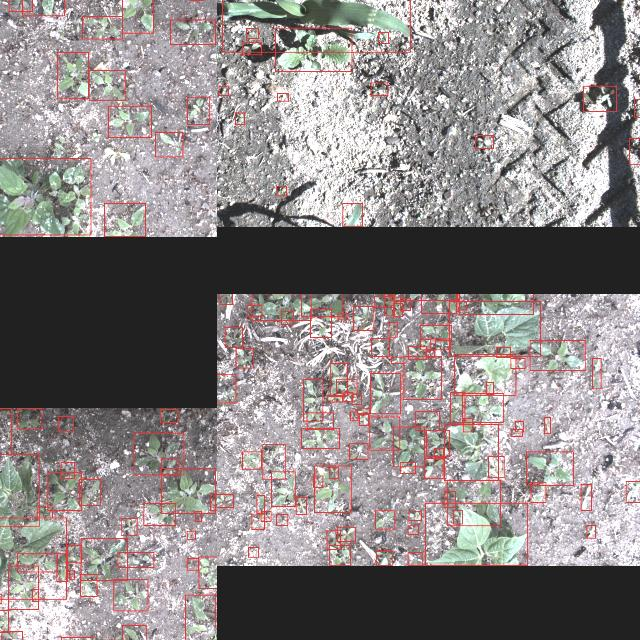crop: (221, 0, 409, 52), (425, 502, 527, 566), (0, 517, 66, 598), (448, 300, 540, 356), (444, 425, 498, 481), (0, 454, 38, 526), (453, 354, 515, 396), (459, 294, 533, 313), (342, 204, 362, 226)
weed: (0, 158, 90, 235), (274, 27, 352, 71), (446, 480, 499, 526), (161, 468, 215, 512), (133, 432, 183, 474), (80, 538, 128, 580), (314, 466, 351, 512), (403, 356, 441, 400), (530, 340, 584, 370), (526, 452, 572, 486), (251, 294, 310, 320), (184, 594, 217, 640), (56, 53, 88, 99), (108, 106, 150, 138), (47, 472, 81, 511), (8, 566, 38, 610), (104, 204, 144, 236), (392, 427, 423, 467), (370, 372, 400, 413), (462, 393, 502, 423), (88, 70, 124, 100), (170, 20, 214, 44), (113, 580, 147, 610), (121, 0, 152, 32), (369, 416, 399, 449), (300, 294, 342, 316), (582, 86, 616, 112), (82, 16, 122, 38), (302, 379, 322, 421), (270, 472, 294, 506), (262, 444, 284, 480), (143, 502, 175, 526), (300, 429, 338, 449), (16, 554, 56, 572), (156, 132, 182, 158), (420, 294, 455, 313), (22, 0, 64, 15), (187, 97, 209, 125), (310, 308, 330, 338), (198, 556, 217, 587), (117, 552, 153, 568), (329, 363, 347, 395), (78, 479, 100, 505), (426, 430, 448, 456), (352, 306, 373, 330), (217, 375, 235, 403), (17, 408, 41, 428), (306, 412, 332, 430), (415, 412, 439, 431), (420, 325, 450, 339), (450, 392, 464, 422), (329, 546, 349, 566), (423, 458, 442, 478), (121, 625, 145, 640), (374, 511, 394, 529), (224, 327, 242, 347), (80, 574, 96, 596), (488, 456, 504, 478), (235, 348, 252, 368), (371, 338, 389, 356), (530, 483, 546, 503), (348, 444, 368, 460), (625, 481, 640, 502), (628, 138, 640, 164), (580, 484, 592, 510), (160, 458, 178, 474), (120, 518, 136, 536), (337, 526, 355, 542), (242, 452, 260, 468), (56, 553, 66, 581), (326, 530, 340, 550), (336, 380, 356, 394), (57, 416, 73, 432), (370, 82, 388, 96), (67, 545, 81, 563), (8, 0, 32, 10), (592, 358, 600, 388), (242, 41, 260, 54), (408, 346, 426, 359), (60, 462, 74, 478), (375, 551, 391, 565), (250, 514, 264, 530), (475, 136, 493, 148), (160, 410, 178, 422), (384, 294, 394, 315), (217, 494, 233, 507), (374, 296, 394, 306), (407, 552, 421, 566), (0, 631, 21, 640), (36, 507, 52, 518), (0, 610, 8, 632), (280, 310, 292, 324), (247, 305, 261, 317), (434, 340, 450, 350), (444, 491, 454, 507), (296, 498, 306, 514), (400, 462, 414, 473), (186, 558, 198, 570), (256, 495, 264, 513), (510, 358, 524, 368), (496, 347, 510, 357), (392, 302, 402, 316), (462, 418, 472, 432), (452, 510, 462, 524), (209, 493, 217, 510), (218, 294, 231, 304), (633, 99, 640, 117), (378, 32, 388, 44), (246, 28, 258, 38), (586, 526, 596, 538), (400, 298, 410, 310), (358, 414, 368, 426), (276, 514, 286, 526), (388, 322, 396, 336), (514, 421, 524, 432), (420, 338, 430, 349), (312, 477, 322, 488), (234, 113, 243, 125), (218, 86, 228, 96), (276, 186, 286, 196), (456, 300, 466, 310), (328, 468, 338, 478), (260, 511, 270, 521), (351, 394, 361, 404), (248, 548, 258, 558), (276, 93, 288, 101), (544, 418, 550, 434), (408, 512, 420, 520), (326, 396, 342, 402), (433, 448, 442, 458), (343, 392, 352, 402), (511, 429, 522, 437), (186, 530, 194, 540), (408, 526, 418, 534), (391, 357, 404, 363), (32, 589, 38, 601), (486, 382, 492, 394), (356, 408, 368, 414), (350, 412, 358, 420), (195, 511, 201, 521), (337, 313, 347, 319), (426, 349, 434, 356), (68, 570, 74, 578), (392, 294, 399, 299)
